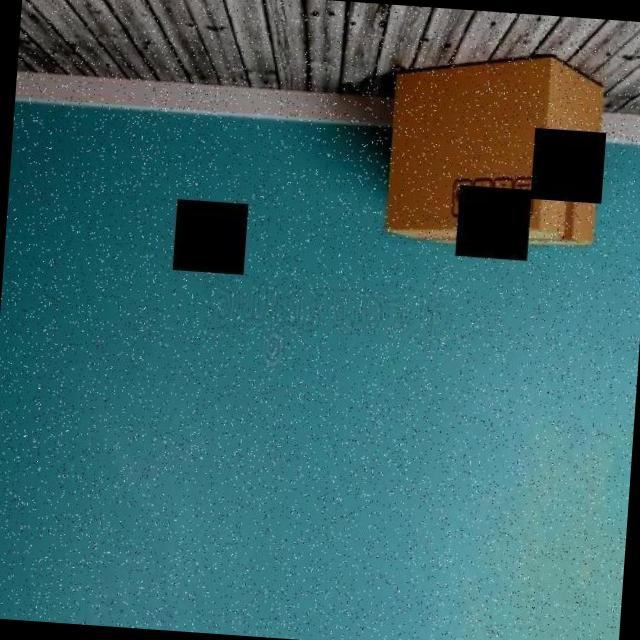box: (370, 40, 617, 259)
